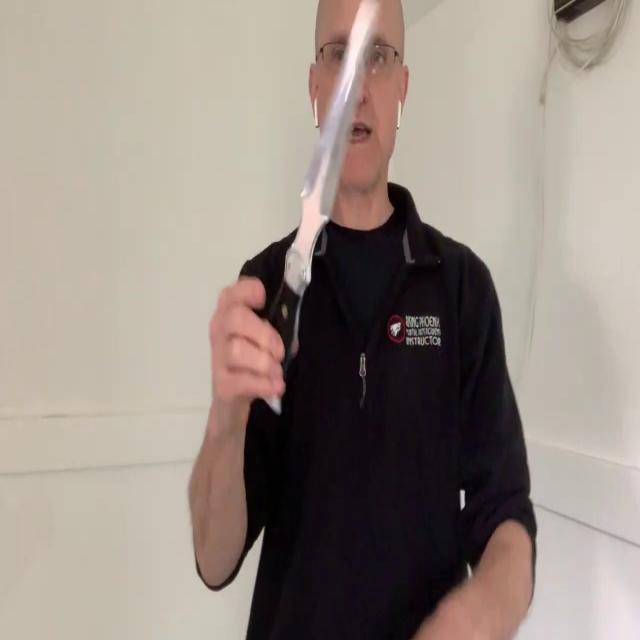Knife_Handle: (209, 0, 380, 423)
